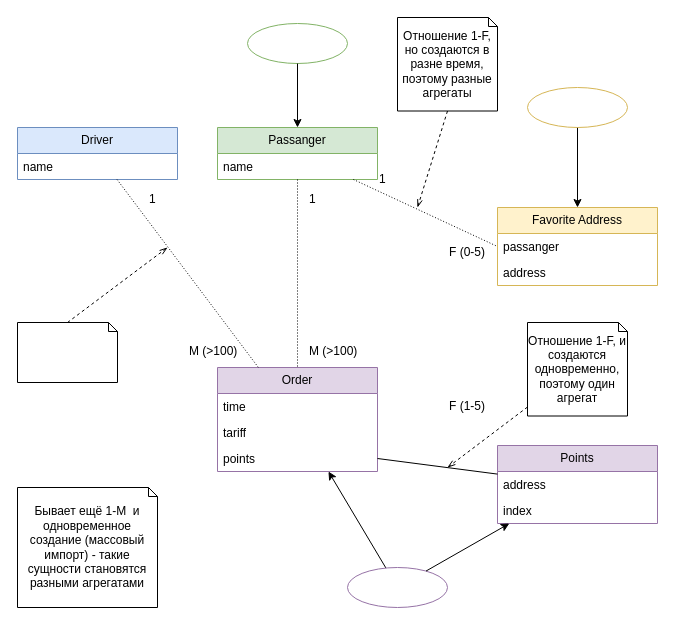
Some shapes in this 675 by 625 pixel diagram are drawn without their labels. The shapes that lost their labels are listed below. From the top down, each one's centre as x and y in pixels, then its label:
At point (297, 43): "register passanger".
At point (577, 107): "add favorite address".
At point (67, 352): "Отношение 1-M поэтому разные агрегаты".
At point (397, 587): "place order".
